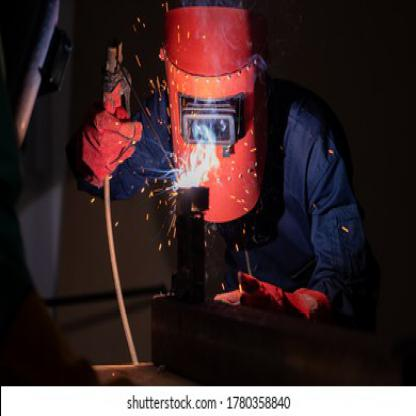with_gloves: (77, 83, 142, 189), (213, 269, 332, 325)
